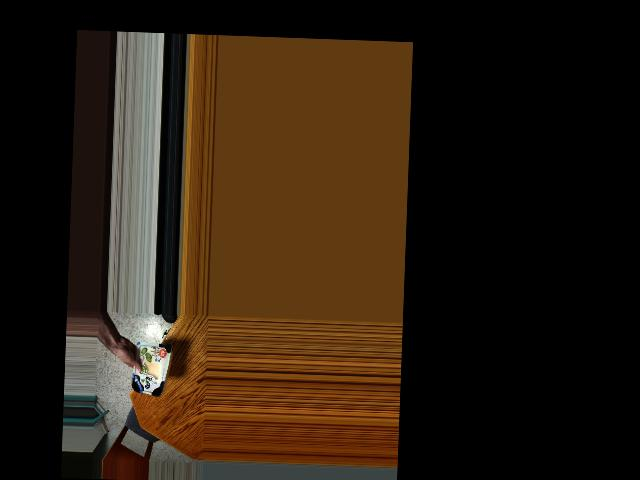cheese: (133, 345, 165, 395)
